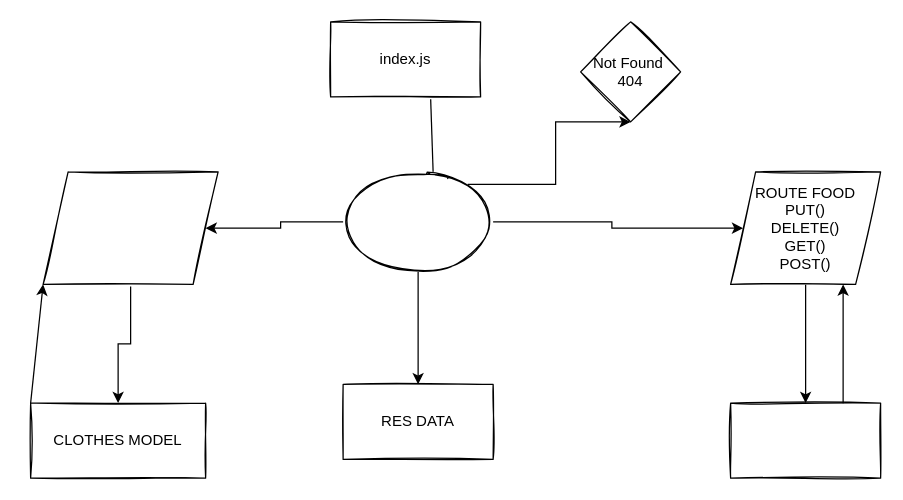
This 903x500 diagram has some shape labels left out. Here are the shapes that lost their labels. From the top down, the centre of each, then its label:
At (x=130, y=227): "ROUTE CLOTHES PUT() DELETE() GET() POST()".
At (x=417, y=221): "server.js".
At (x=805, y=440): "FOOD MODEL".
